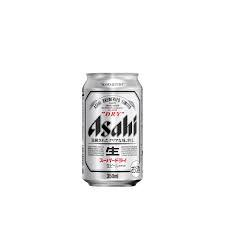beer: (81, 73, 143, 188)
